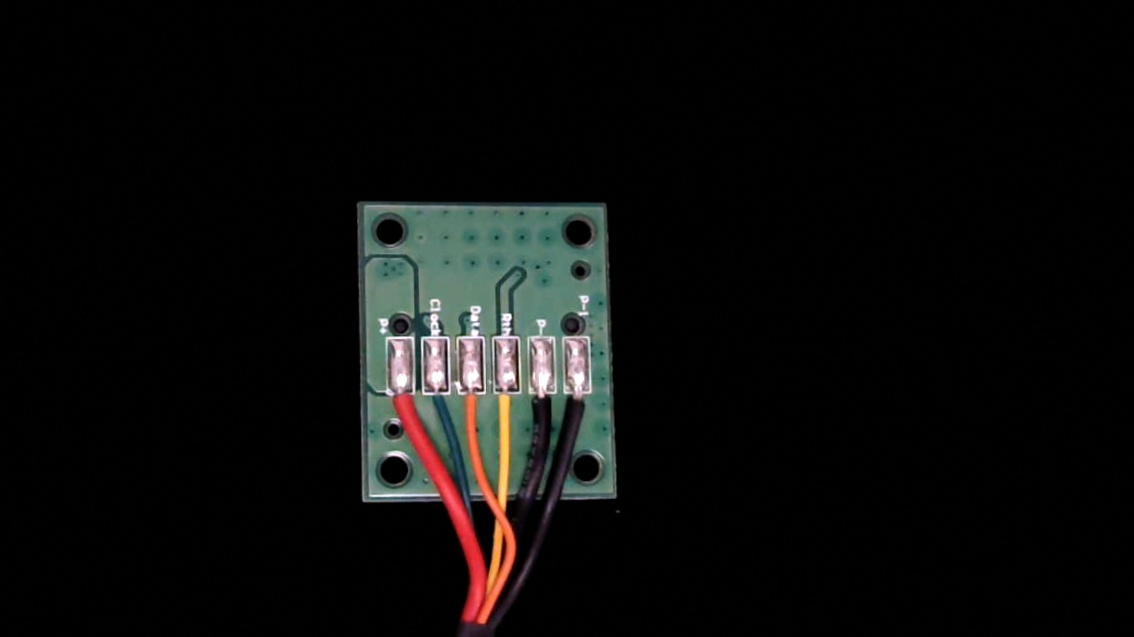Black: (528, 378, 560, 445)
Black1: (564, 378, 595, 439)
Green: (424, 377, 455, 435)
Orange: (456, 379, 487, 445)
Red: (384, 380, 416, 444)
Yellow: (491, 378, 523, 445)
